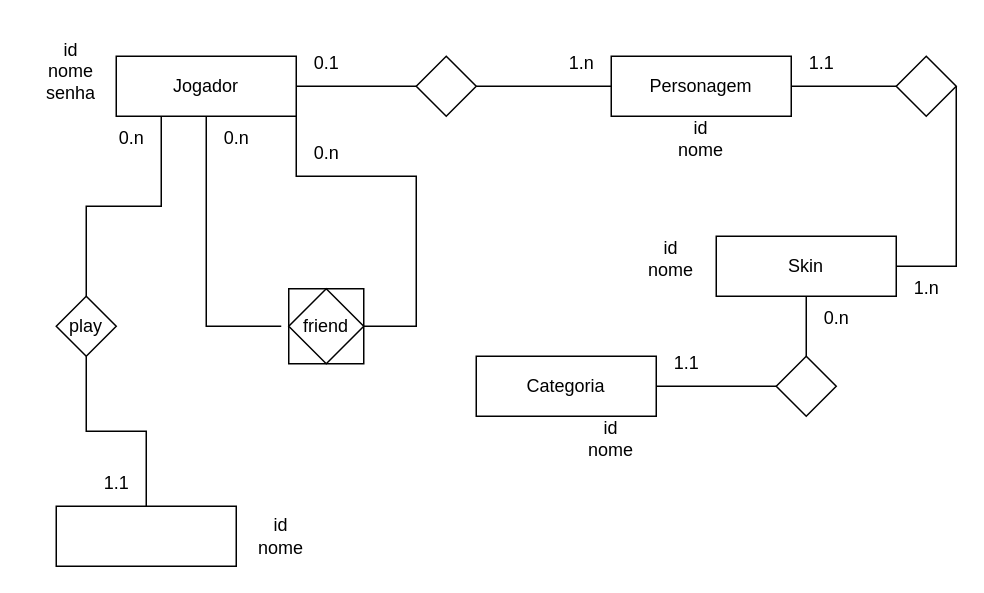
This 984x593 diagram has some shape labels left out. The shapes that lost their labels are listed below. From the top down, each one's centre as x and y in pixels, then its label:
the point at 445,85: has
the point at 805,385: is in
the point at 145,535: Mapa
